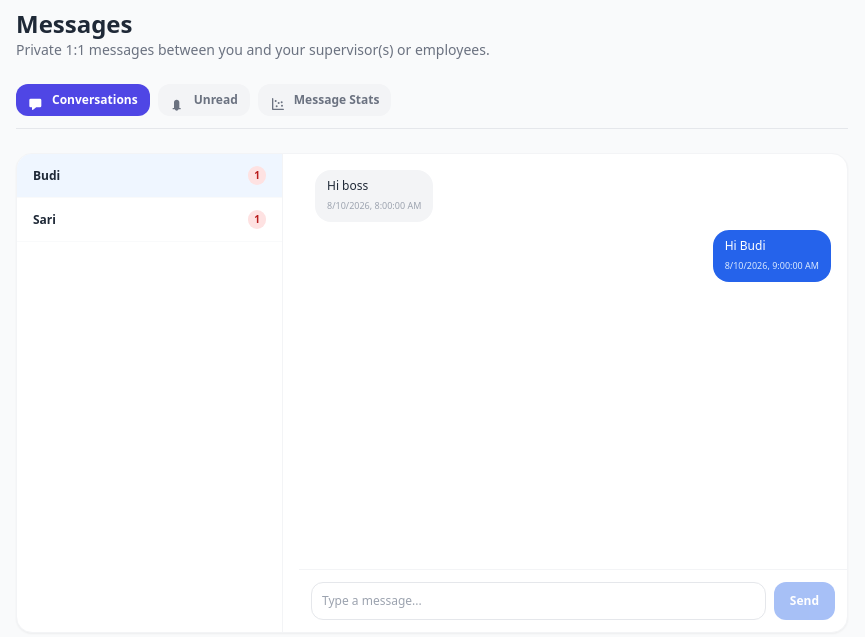
Test: DirectMessagesView › the Unread tab lists every unread message across all conversations
Click the tab "Unread" at (204, 100), box [158,84,250,116]
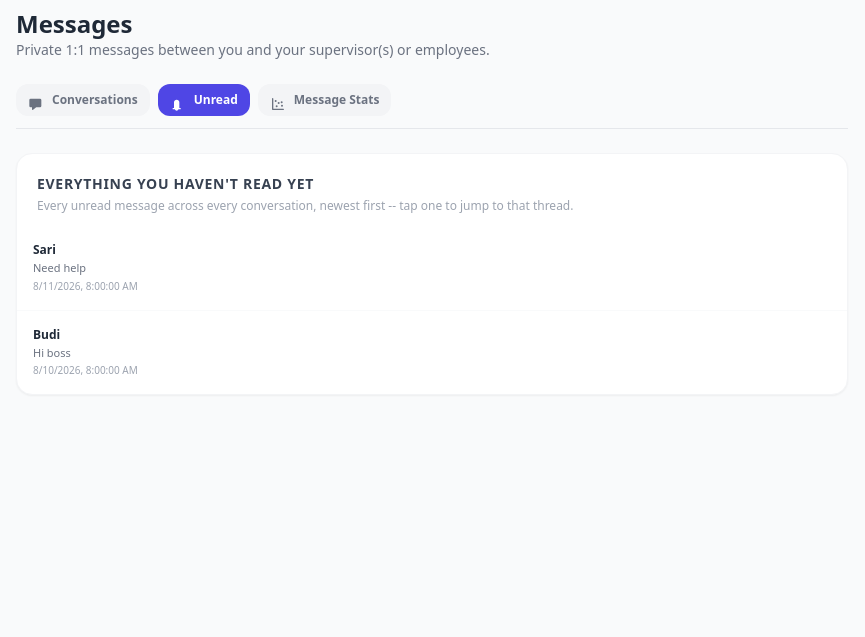
Check: the text "Hi boss" is shown, box [33,344,71,360]
Check: the text "Need help" is shown, box [33,260,86,275]
Check: the text "Hi Budi" is gone
